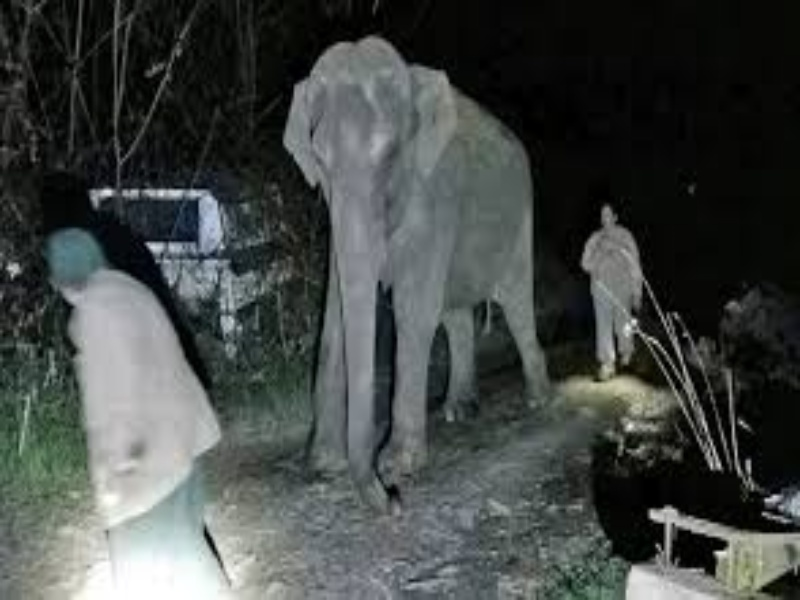elephant: (267, 22, 570, 525)
